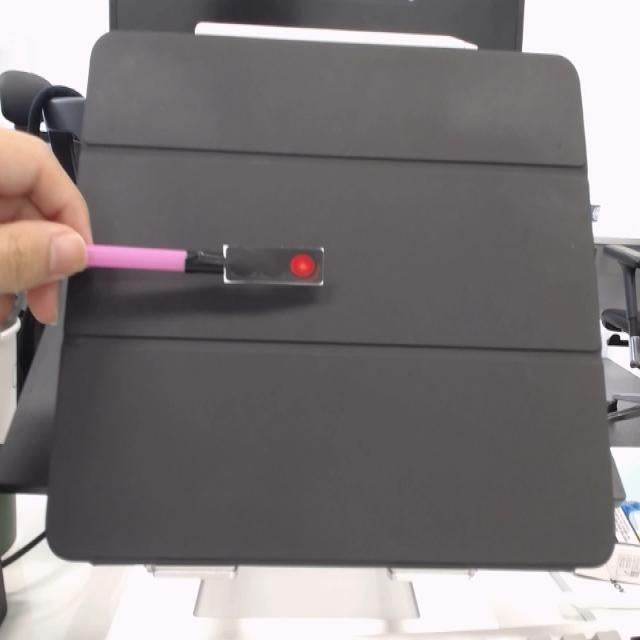traffic light: (218, 243, 335, 307)
